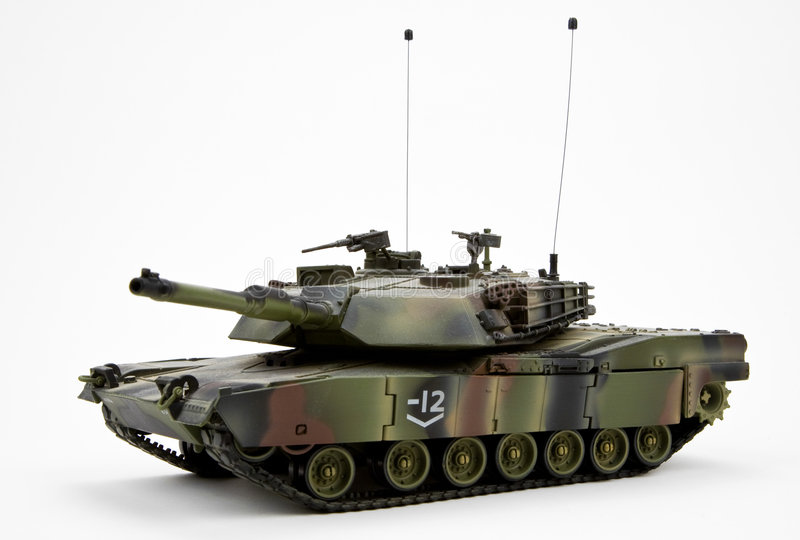abrams: (78, 254, 754, 504)
